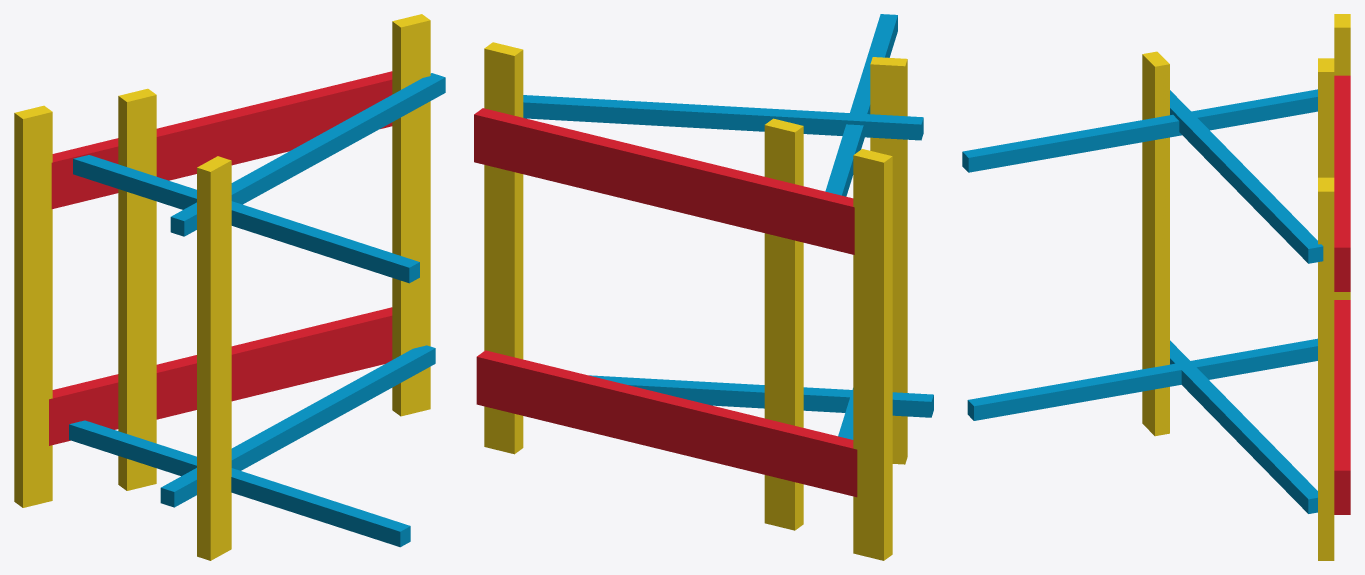
The model's file is tinker.obj.
The picture shows the model from 3 angles, left to right: view 1: azimuth 30°, elevation 25°; view 2: azimuth 150°, elevation 25°; view 3: azimuth 270°, elevation 25°; orthographic projection. The views are drawn at different scales.
Visible parts, largest first — view 1: group_0_16768282, group_0_15277357, group_0_40919; view 2: group_0_16768282, group_0_15277357, group_0_40919; view 3: group_0_40919, group_0_16768282, group_0_15277357.
Part boxes in pixels (x1=…): group_0_16768282: x1=14, y1=14, x2=430, y2=560; group_0_15277357: x1=49, y1=71, x2=392, y2=445; group_0_40919: x1=69, y1=73, x2=445, y2=547; group_0_16768282: x1=484, y1=42, x2=907, y2=560; group_0_15277357: x1=474, y1=108, x2=857, y2=497; group_0_40919: x1=523, y1=14, x2=933, y2=439; group_0_40919: x1=962, y1=89, x2=1323, y2=513; group_0_16768282: x1=1142, y1=14, x2=1350, y2=560; group_0_15277357: x1=1334, y1=75, x2=1350, y2=514.
Bounding box in the file's own units: 330 × 306 × 286.
